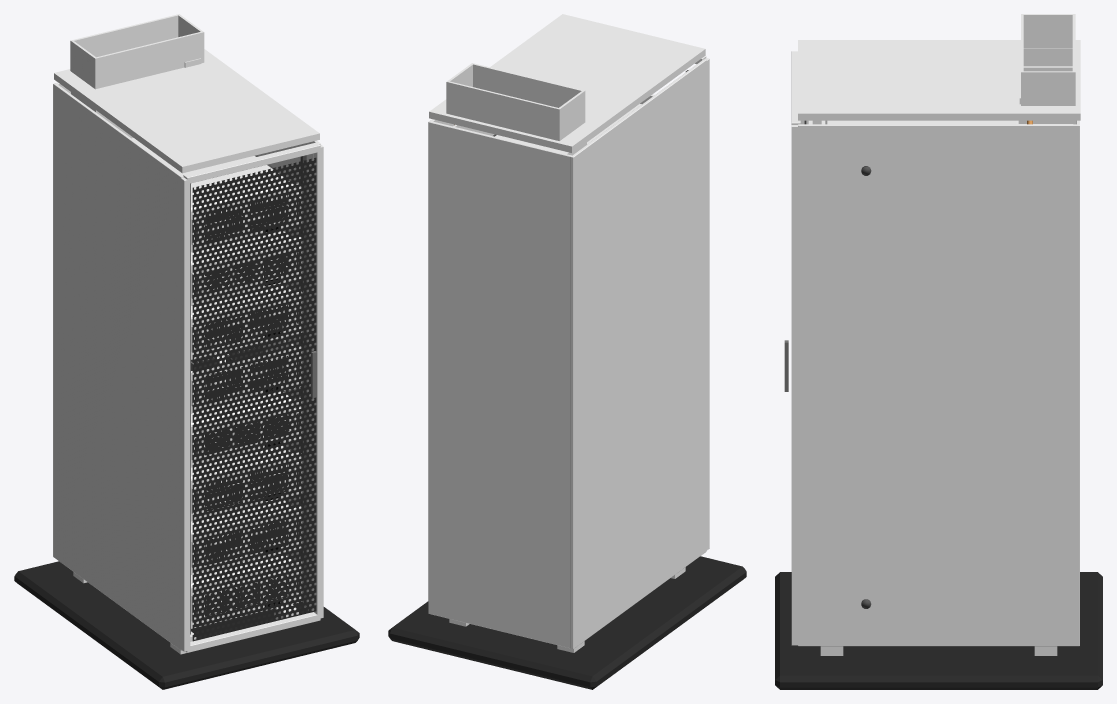
File: rack.glb
The picture shows the model from 3 angles, left to right: view 1: azimuth 30°, elevation 25°; view 2: azimuth 150°, elevation 25°; view 3: azimuth 270°, elevation 25°; orthographic projection. The views are drawn at different scales.
Parts seen in each view (by area): view 1: GN_RACK_FRAME_Graphite, GN_RACK_DOOR_Grille, GN_RACK_FRAME_Platform, GN_RACK_DOOR_Graphite, GN_RACK_SERVERS_Graphite, GN_RACK_SERVERS_Grille, GN_RACK_SERVERS_Dark, GN_RACK_PANEL_Graphite, GN_RACK_FRAME_Steel, GN_RACK_TRAY_Graphite, GN_RACK_SERVERS_Steel, GN_RACK_TRAY_Grille; view 2: GN_RACK_FRAME_Graphite, GN_RACK_FRAME_Platform, GN_RACK_DOOR_Graphite, GN_RACK_PANEL_Graphite; view 3: GN_RACK_PANEL_Graphite, GN_RACK_FRAME_Graphite, GN_RACK_FRAME_Platform, GN_RACK_DOOR_Graphite, GN_RACK_SERVERS_Graphite.
Part boxes in pixels (x1,y1,x2,y2): GN_RACK_FRAME_Graphite: (53,14,319,650); GN_RACK_DOOR_Grille: (192,157,316,641); GN_RACK_FRAME_Platform: (14,561,359,689); GN_RACK_DOOR_Graphite: (180,142,323,652); GN_RACK_SERVERS_Graphite: (132,138,302,628); GN_RACK_SERVERS_Grille: (204,194,289,616); GN_RACK_SERVERS_Dark: (191,193,301,621); GN_RACK_PANEL_Graphite: (257,140,320,610); GN_RACK_FRAME_Steel: (190,155,306,634); GN_RACK_TRAY_Graphite: (191,337,302,413); GN_RACK_SERVERS_Steel: (195,155,300,617); GN_RACK_TRAY_Grille: (204,356,287,401); GN_RACK_FRAME_Graphite: (429,14,706,648); GN_RACK_FRAME_Platform: (388,556,746,689); GN_RACK_DOOR_Graphite: (695,55,709,550); GN_RACK_PANEL_Graphite: (428,119,494,614); GN_RACK_PANEL_Graphite: (798,124,1079,646); GN_RACK_FRAME_Graphite: (798,14,1080,124); GN_RACK_FRAME_Platform: (775,572,1102,689); GN_RACK_DOOR_Graphite: (791,51,800,645); GN_RACK_SERVERS_Graphite: (808,120,1018,124).
Bounding box in the file's own units: 1.12 × 2.88 × 1.44.
Materials: 7 (7 with a texture image).
